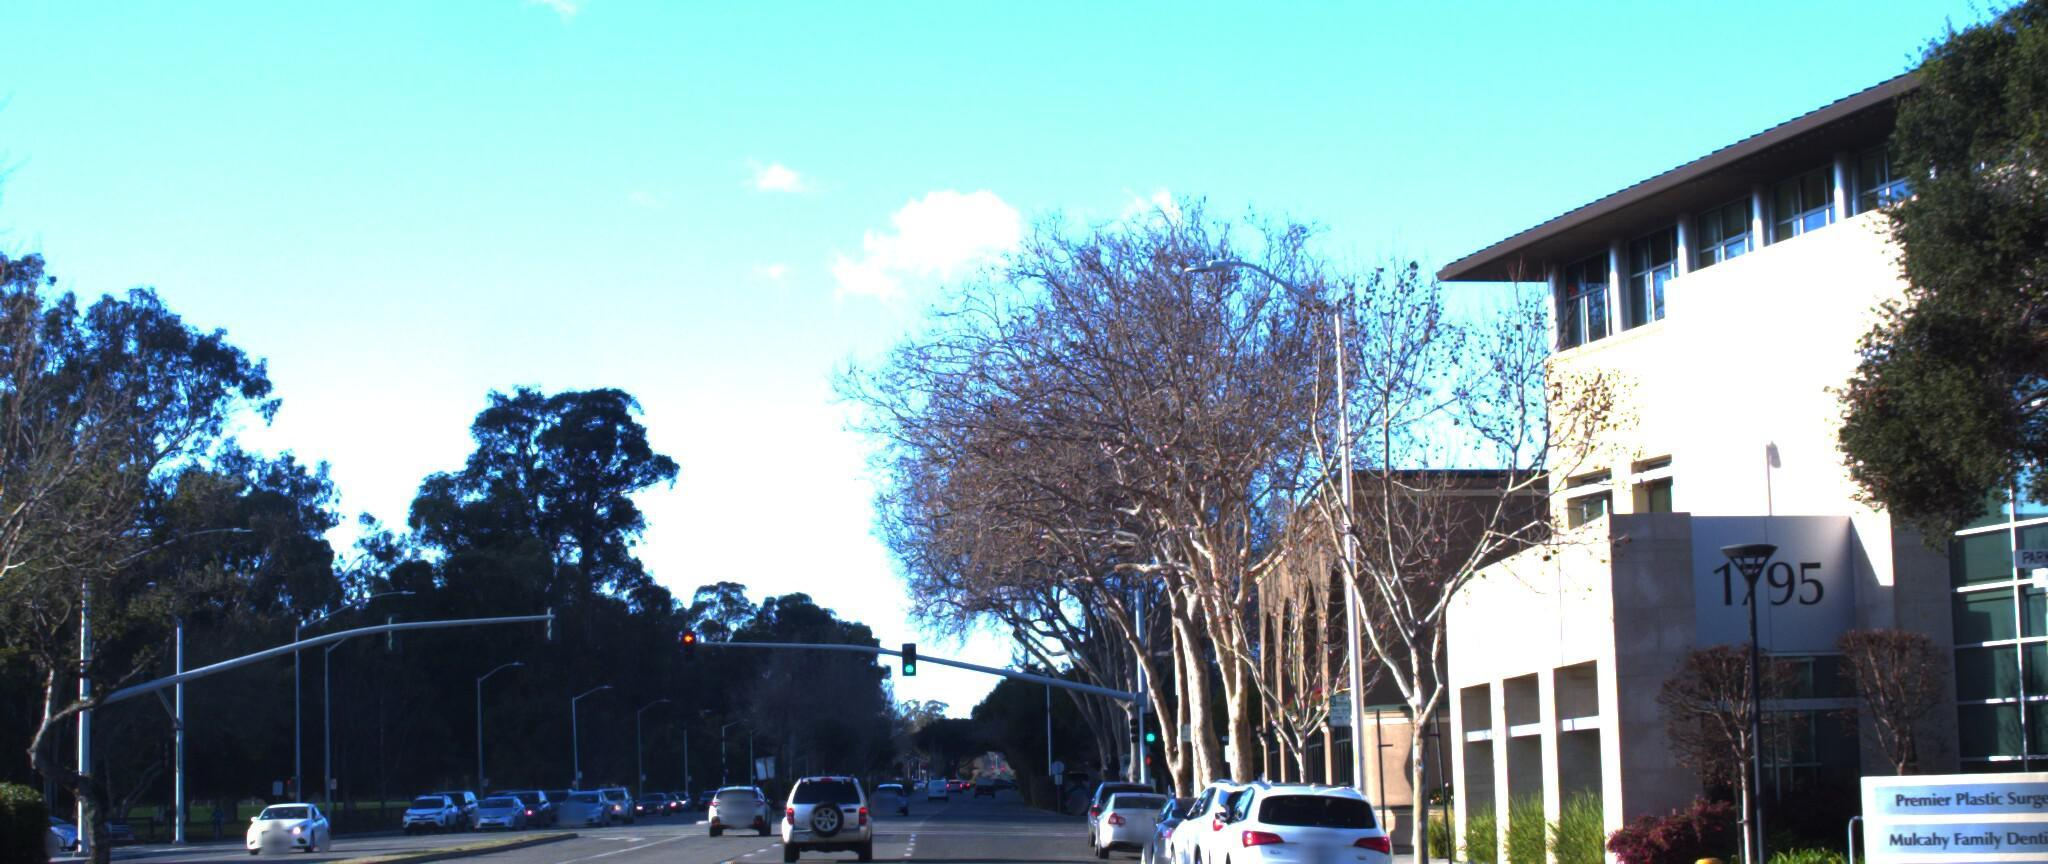car: (1152, 747, 1351, 864), (1192, 757, 1399, 864), (756, 756, 876, 850), (1088, 774, 1185, 850)
